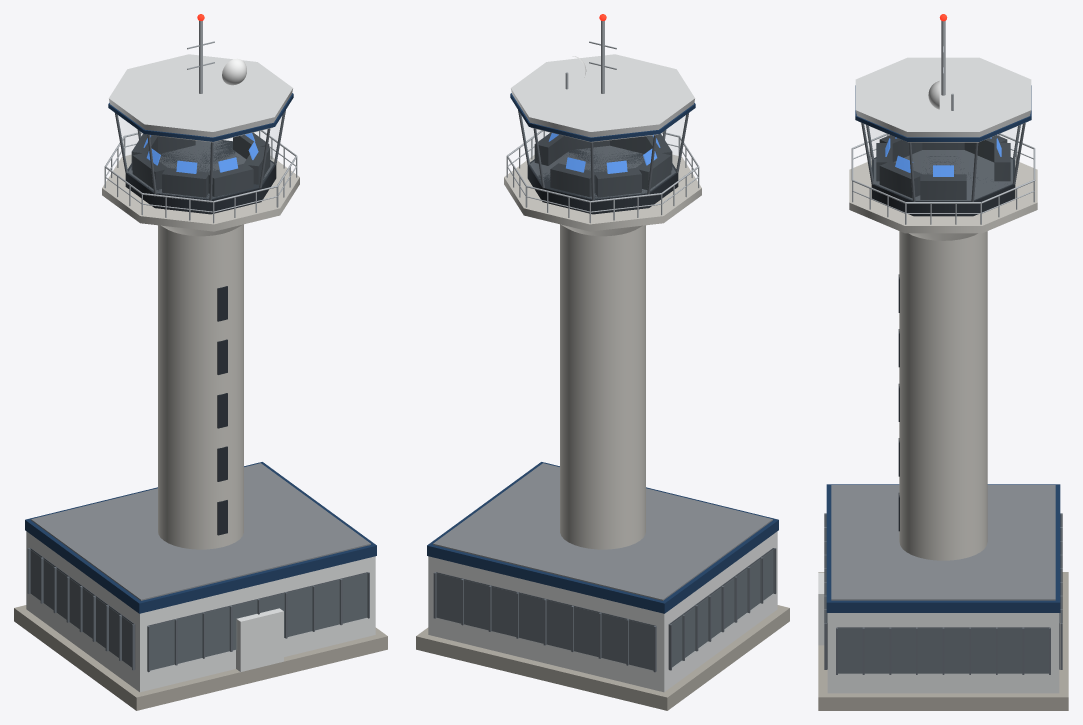
File: tower.glb
The picture shows the model from 3 angles, left to right: view 1: azimuth 30°, elevation 25°; view 2: azimuth 150°, elevation 25°; view 3: azimuth 270°, elevation 25°; orthographic projection. The views are drawn at different scales.
Visible parts, largest first — view 1: tower_concrete, cladding_white, roof_membrane, cab_glass, cabin_interior, concrete_plinth, cladding_blue, cladding_dark, console_grey, mullion_steel, rail_steel, screen_lit; view 2: tower_concrete, cladding_white, roof_membrane, cab_glass, cabin_interior, concrete_plinth, cladding_blue, console_grey, mullion_steel, cladding_dark, rail_steel, screen_lit; view 3: tower_concrete, cladding_white, roof_membrane, cab_glass, cabin_interior, concrete_plinth, cladding_blue, console_grey, mullion_steel, cladding_dark, rail_steel, screen_lit.
Boxes of the visible parts, box(x1,y1,x2,y2) form: tower_concrete: box(102, 154, 299, 549); cladding_white: box(26, 54, 375, 692); roof_membrane: box(31, 463, 370, 600); cab_glass: box(29, 116, 367, 670); cabin_interior: box(30, 140, 367, 670); concrete_plinth: box(14, 605, 387, 710); cladding_blue: box(25, 93, 376, 613); cladding_dark: box(125, 140, 276, 535); console_grey: box(131, 132, 270, 197); mullion_steel: box(27, 110, 369, 672); rail_steel: box(104, 21, 297, 223); screen_lit: box(143, 133, 258, 173); tower_concrete: box(504, 154, 701, 549); cladding_white: box(428, 54, 777, 692); roof_membrane: box(433, 463, 772, 600); cab_glass: box(436, 116, 774, 670); cabin_interior: box(436, 145, 773, 670); concrete_plinth: box(416, 605, 789, 710); cladding_blue: box(427, 93, 778, 613); console_grey: box(534, 132, 672, 197); mullion_steel: box(433, 110, 776, 672); cladding_dark: box(527, 148, 678, 214); rail_steel: box(506, 21, 699, 223); screen_lit: box(548, 133, 660, 173); tower_concrete: box(849, 160, 1037, 560); cladding_white: box(818, 57, 1059, 693); roof_membrane: box(831, 485, 1055, 600); cab_glass: box(838, 125, 1061, 673); cabin_interior: box(827, 150, 1059, 673); concrete_plinth: box(818, 572, 1068, 710); cladding_blue: box(826, 85, 1060, 612); console_grey: box(876, 135, 1010, 199); mullion_steel: box(824, 123, 1062, 674); cladding_dark: box(871, 156, 1015, 531); rail_steel: box(851, 21, 1035, 224); screen_lit: box(885, 137, 1001, 176).
Size of the model in its own units: 12.8 by 30.21 by 10.8.
